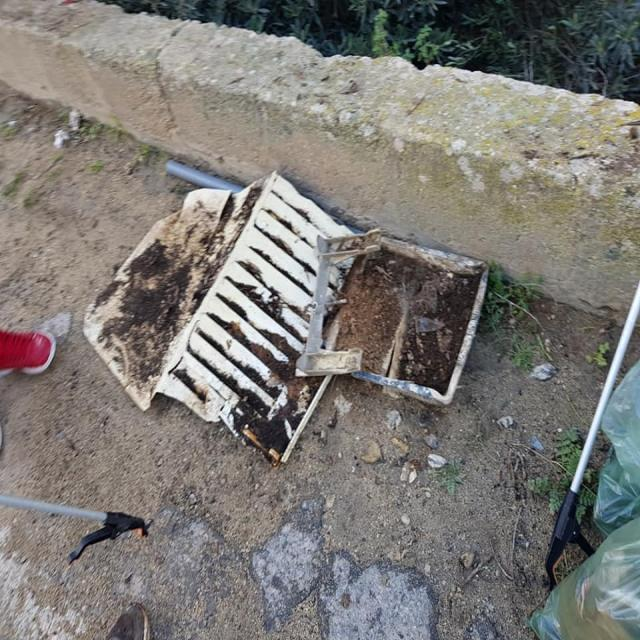Other litter: (323, 227, 500, 412)
Other plastic: (298, 229, 384, 380), (165, 159, 245, 195)
Plastic bag - wrapper: (524, 509, 639, 639), (592, 355, 639, 538)
Styrofoam piece: (83, 171, 355, 462)
